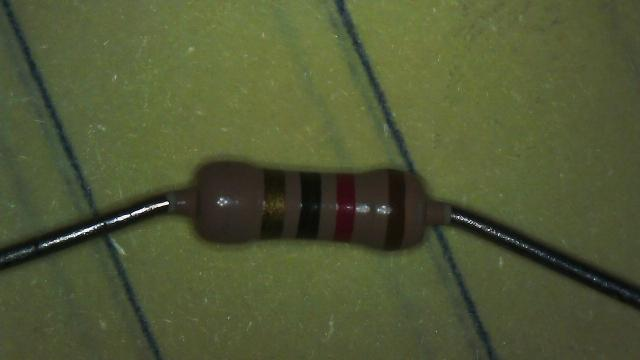black: (302, 168, 318, 243)
brown: (390, 165, 404, 253)
gold: (265, 169, 282, 236)
red: (338, 172, 355, 238)
resistor: (171, 148, 454, 259)
